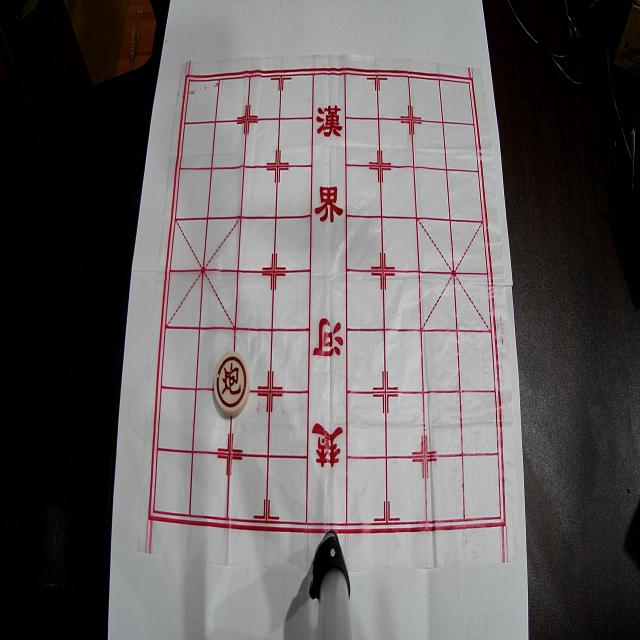red-cannon: (214, 352, 250, 416)
